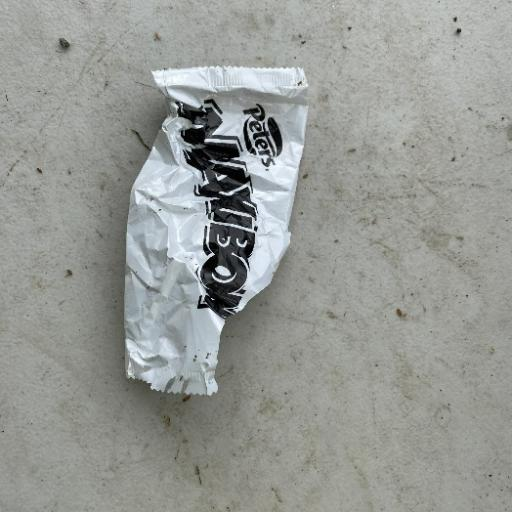Plastic: (120, 62, 312, 398)
